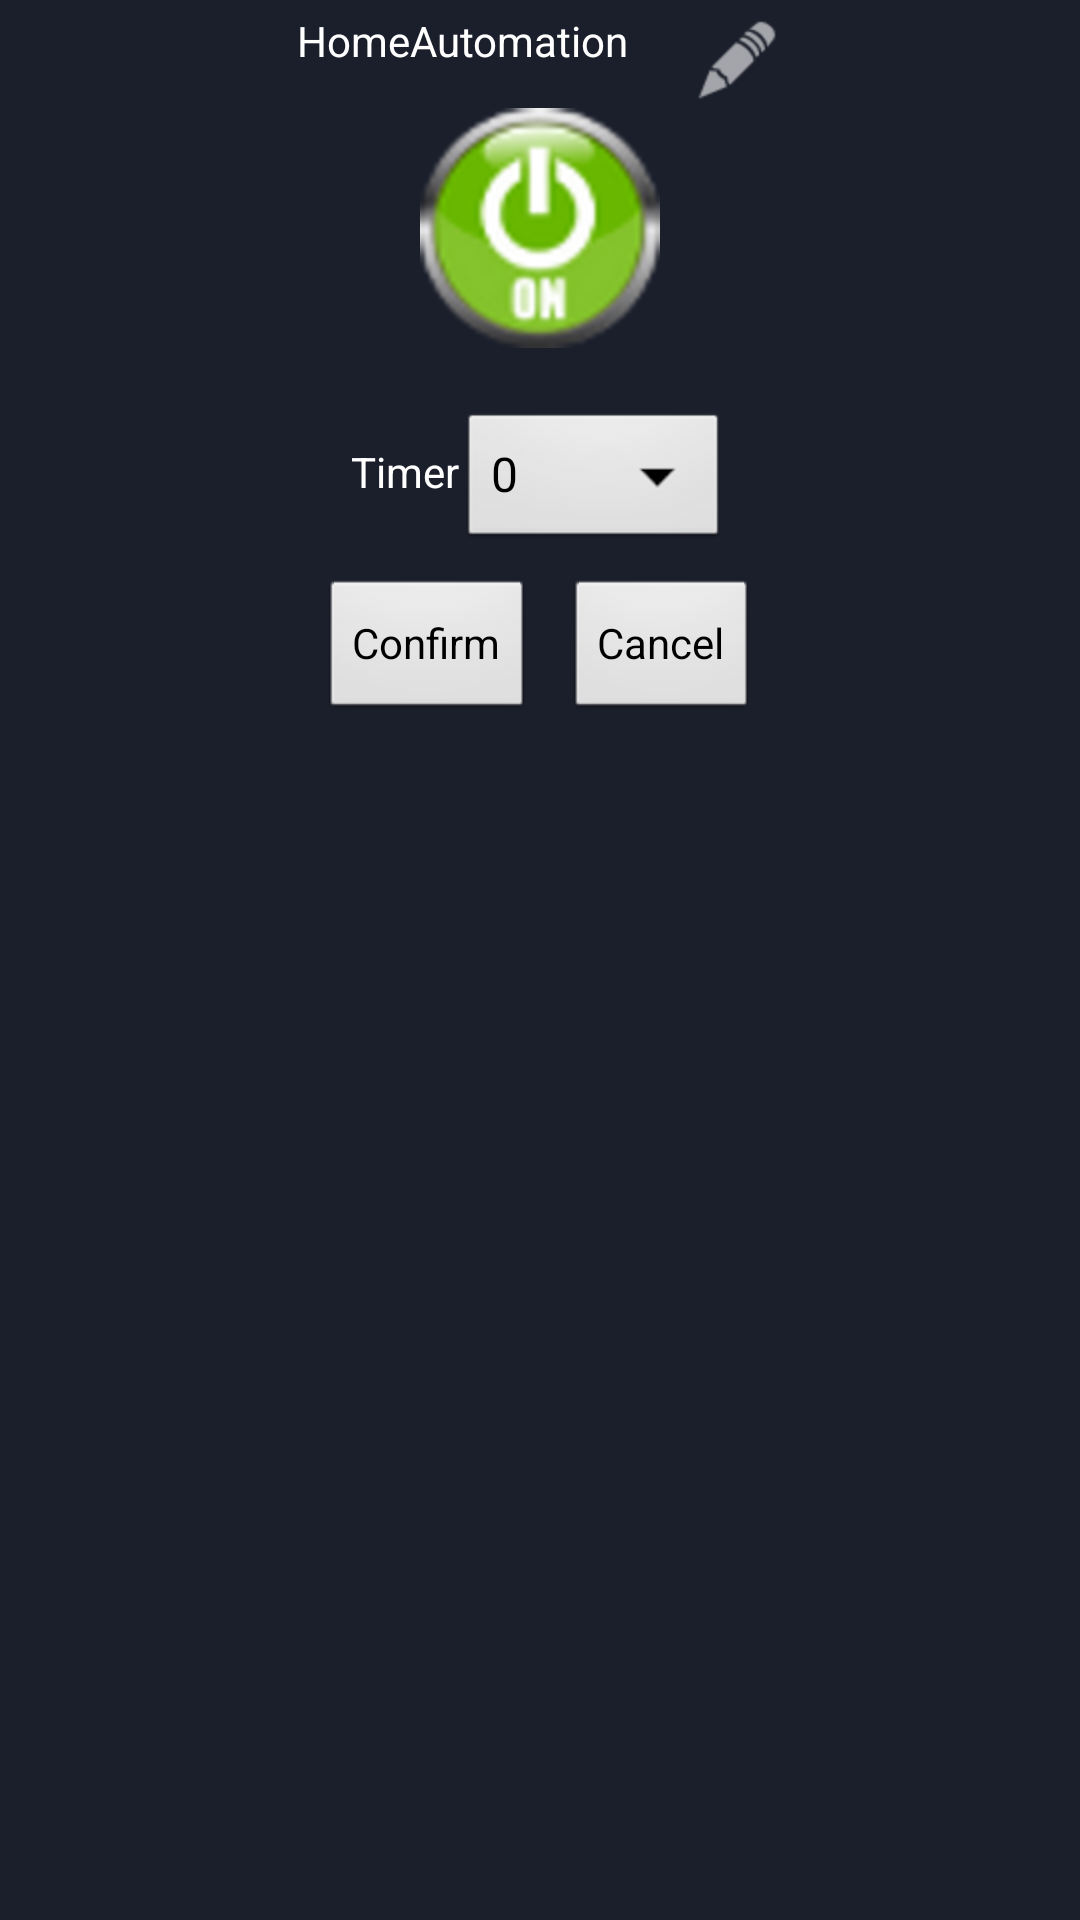

Point at icon controls on the screen. Image size 1080px×1920px, points as [x,y].
edit: [737,59]
Switch Power: [540,228]
